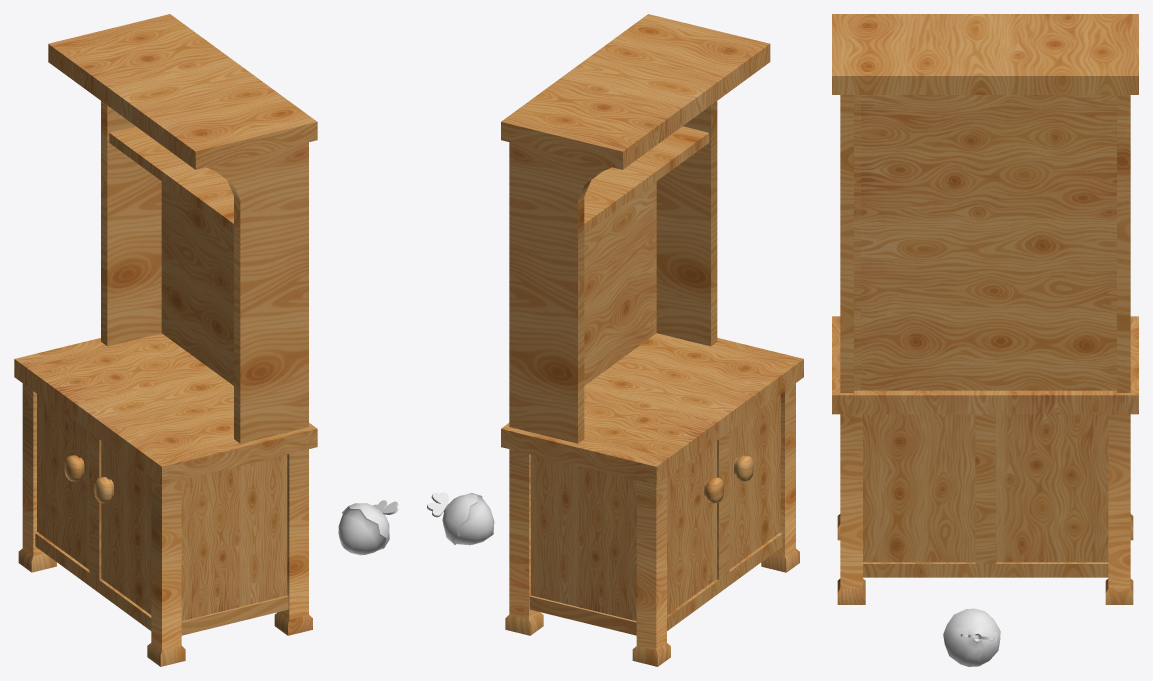
Rendered from Shelf_03_Drop.fbx.
3 renders of one model, left to right at view 1: azimuth 30°, elevation 25°; view 2: azimuth 150°, elevation 25°; view 3: azimuth 270°, elevation 25°, orthographic. The views are drawn at different scales.
Visible parts, largest first — view 1: Shelf_03_Drop.005, Shelf_03_Drop.000, Shelf_03_Drop.003, Shelf_03_Drop.012, Shelf_03_Drop.002, Shelf_03_Drop.001, Shelf_03_Drop.006, Shelf_03_Drop.007, Shelf_03_Drop.011, Shelf_03_Drop.014, Shelf_03_Drop.004, Shelf_03_Drop.010 (+2 smaller); view 2: Shelf_03_Drop.005, Shelf_03_Drop.000, Shelf_03_Drop.002, Shelf_03_Drop.013, Shelf_03_Drop.003, Shelf_03_Drop.001, Shelf_03_Drop.007, Shelf_03_Drop.006, Shelf_03_Drop.008, Shelf_03_Drop.014, Shelf_03_Drop.004, Shelf_03_Drop.009 (+2 smaller); view 3: Shelf_03_Drop.001, Shelf_03_Drop.015, Shelf_03_Drop.000, Shelf_03_Drop.005, Shelf_03_Drop.014, Shelf_03_Drop.010, Shelf_03_Drop.009, Shelf_03_Drop.002, Shelf_03_Drop.003, Magical_Seed.
Part boxes in pixels (x1,y1,x2,y2): Shelf_03_Drop.005: [14, 333, 317, 484]; Shelf_03_Drop.000: [48, 14, 317, 169]; Shelf_03_Drop.003: [207, 142, 308, 443]; Shelf_03_Drop.012: [181, 454, 287, 620]; Shelf_03_Drop.002: [101, 101, 161, 346]; Shelf_03_Drop.001: [161, 181, 233, 385]; Shelf_03_Drop.006: [37, 394, 89, 569]; Shelf_03_Drop.007: [94, 441, 151, 614]; Shelf_03_Drop.011: [147, 477, 185, 666]; Shelf_03_Drop.014: [35, 432, 288, 635]; Shelf_03_Drop.004: [109, 126, 233, 233]; Shelf_03_Drop.010: [274, 449, 312, 635]; Shelf_03_Drop.005: [501, 333, 803, 484]; Shelf_03_Drop.000: [501, 14, 770, 169]; Shelf_03_Drop.002: [509, 142, 611, 443]; Shelf_03_Drop.013: [531, 454, 636, 621]; Shelf_03_Drop.003: [656, 101, 717, 346]; Shelf_03_Drop.001: [584, 181, 656, 385]; Shelf_03_Drop.007: [729, 394, 780, 569]; Shelf_03_Drop.006: [667, 441, 723, 614]; Shelf_03_Drop.008: [632, 478, 670, 666]; Shelf_03_Drop.014: [529, 432, 782, 635]; Shelf_03_Drop.004: [584, 126, 709, 233]; Shelf_03_Drop.009: [505, 449, 543, 635]; Shelf_03_Drop.001: [854, 95, 1116, 390]; Shelf_03_Drop.015: [863, 414, 1108, 562]; Shelf_03_Drop.000: [832, 14, 1138, 94]; Shelf_03_Drop.005: [832, 316, 1138, 414]; Shelf_03_Drop.014: [863, 414, 1108, 577]; Shelf_03_Drop.010: [837, 414, 865, 604]; Shelf_03_Drop.009: [1105, 414, 1133, 604]; Shelf_03_Drop.002: [1117, 95, 1130, 392]; Shelf_03_Drop.003: [840, 95, 853, 392]; Magical_Seed: [943, 608, 1000, 666].
Bounding box in the file's own units: 130 × 205 × 107.
